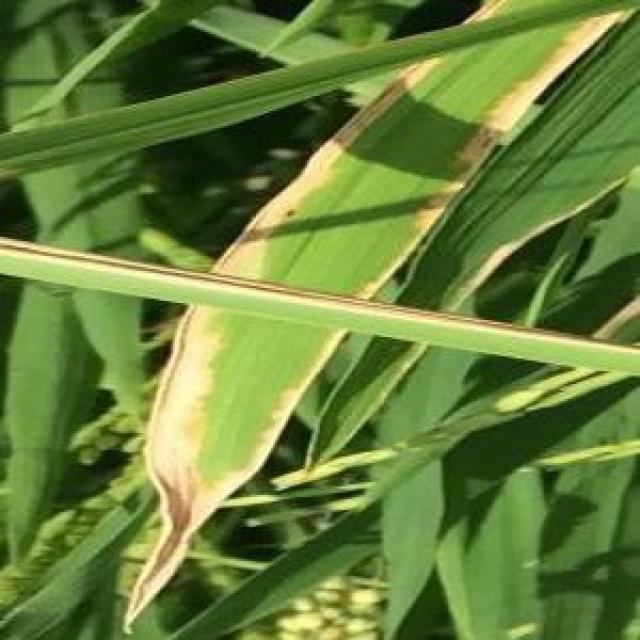Bacterial_Blight: (128, 1, 628, 622), (126, 0, 508, 626)
